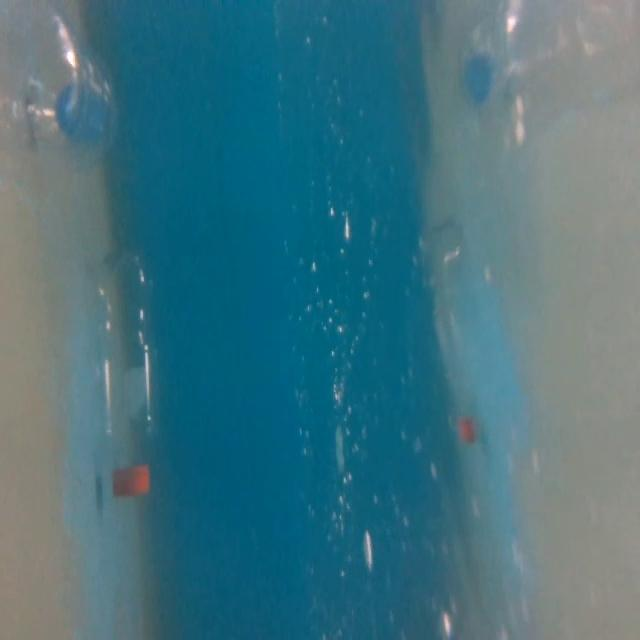plastic bottle: (88, 246, 173, 503)
